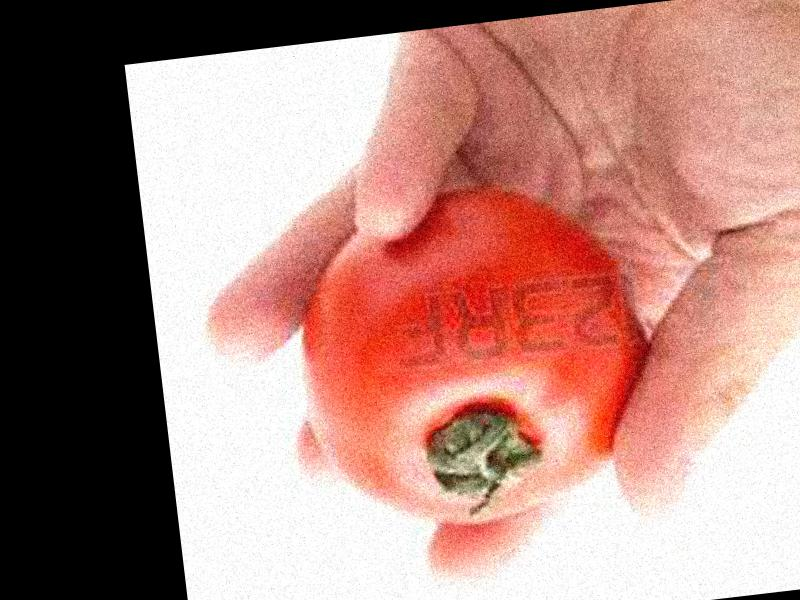Tomato: (282, 172, 661, 541)
